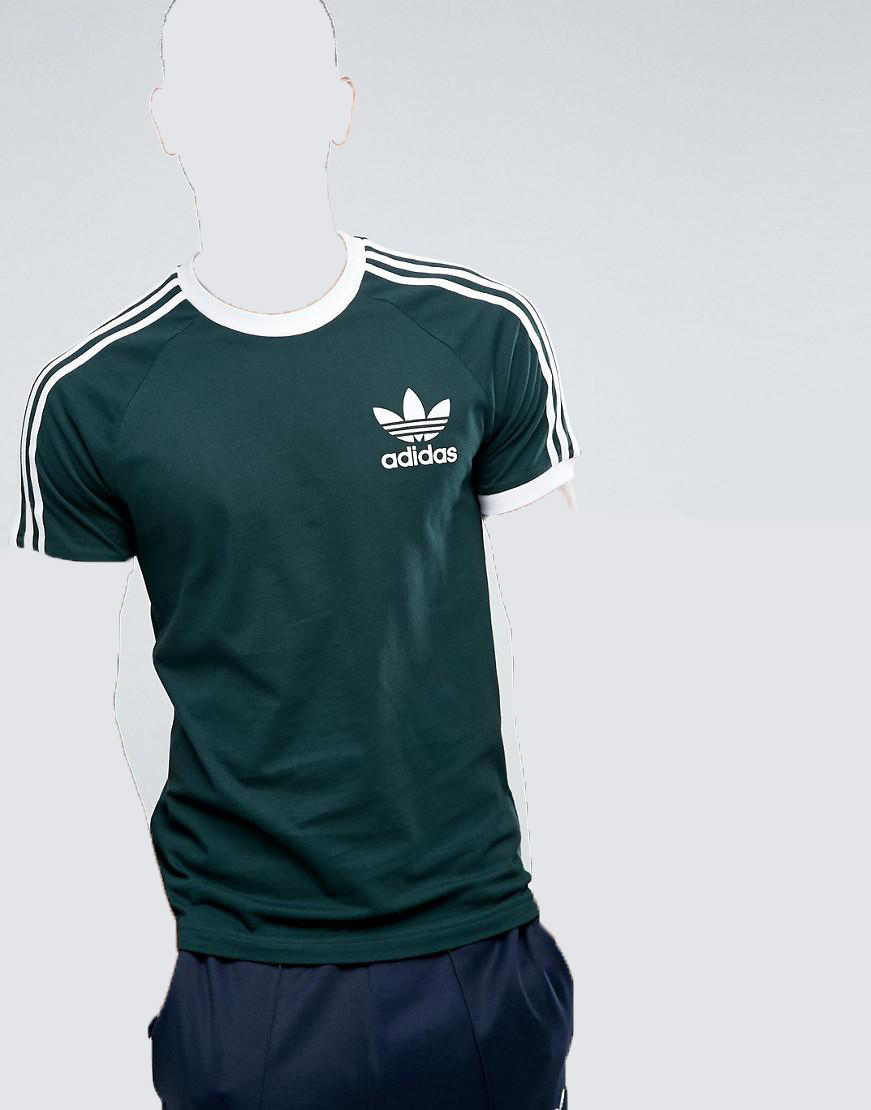teeshirt: (13, 235, 632, 974)
